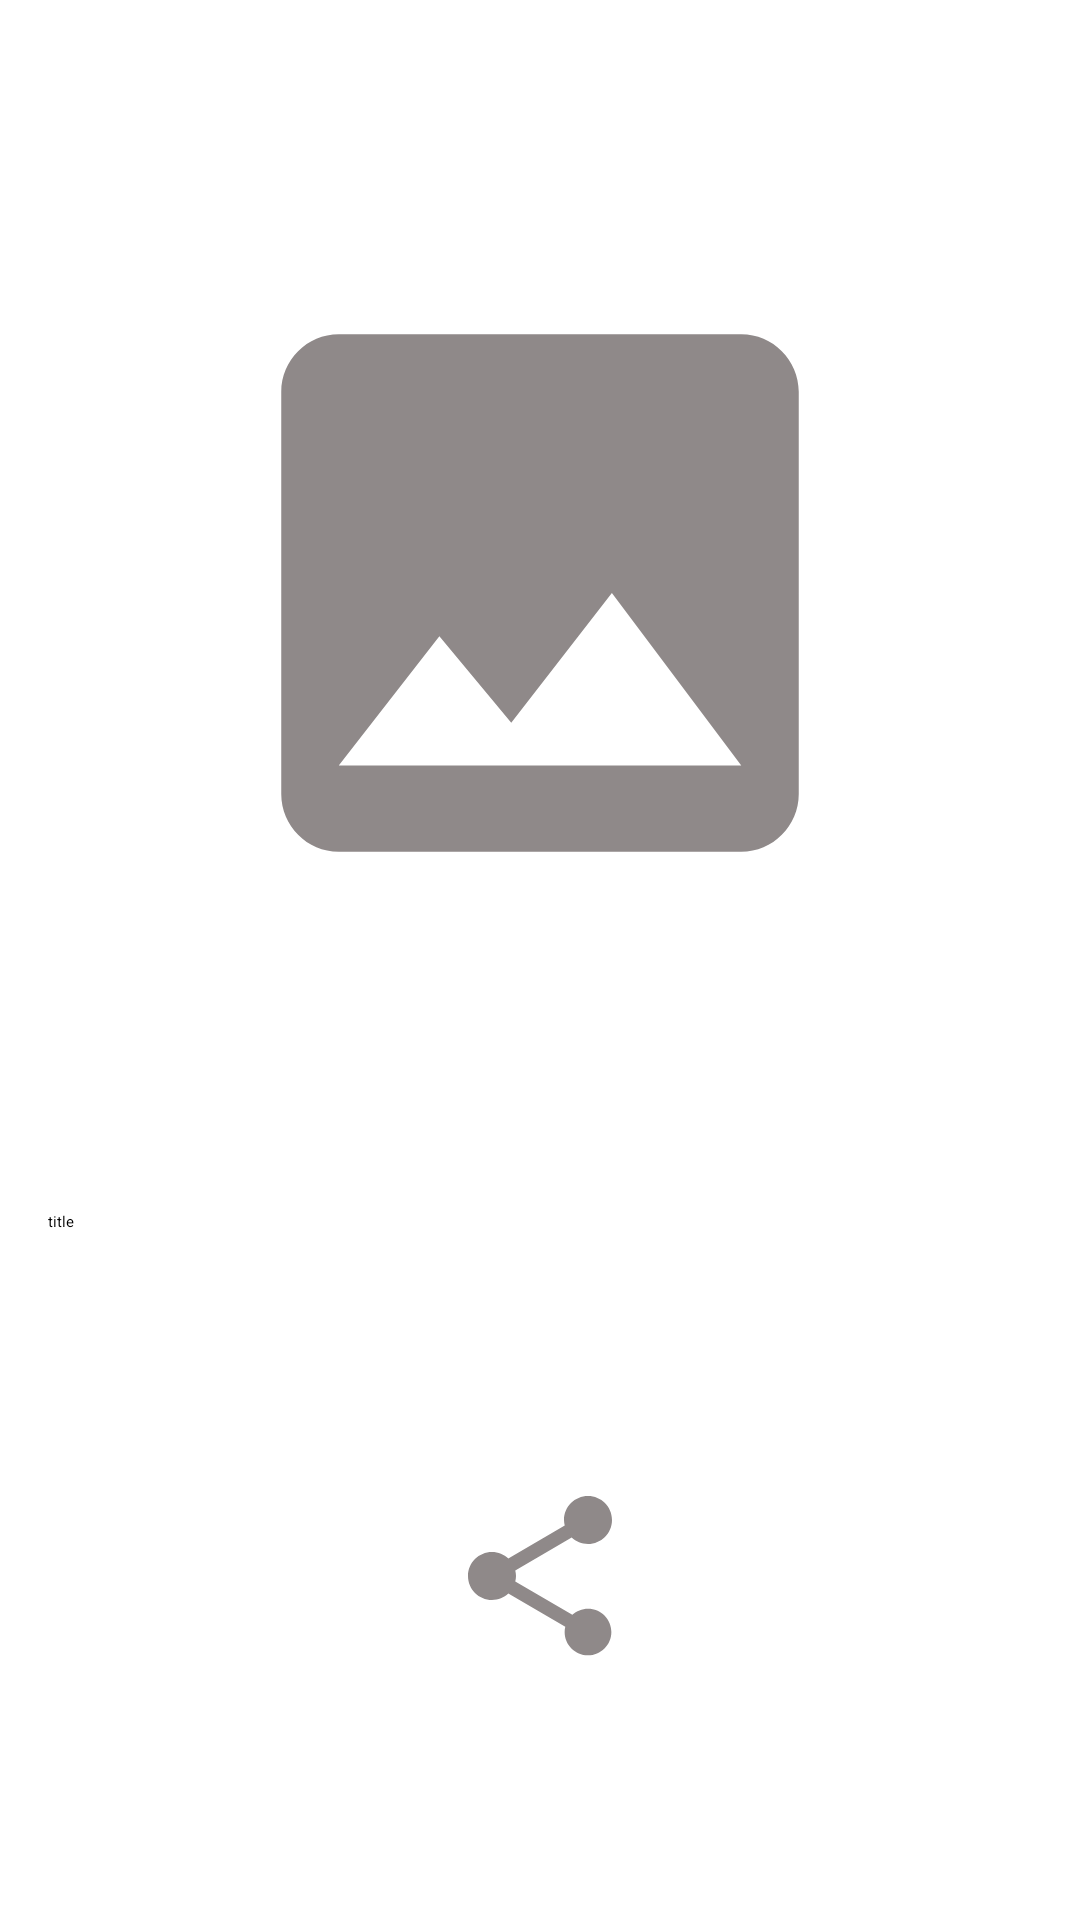

Icon click points for this 1080px×1920px phone screenshot, format point (x, y):
share: point (540, 1576)
